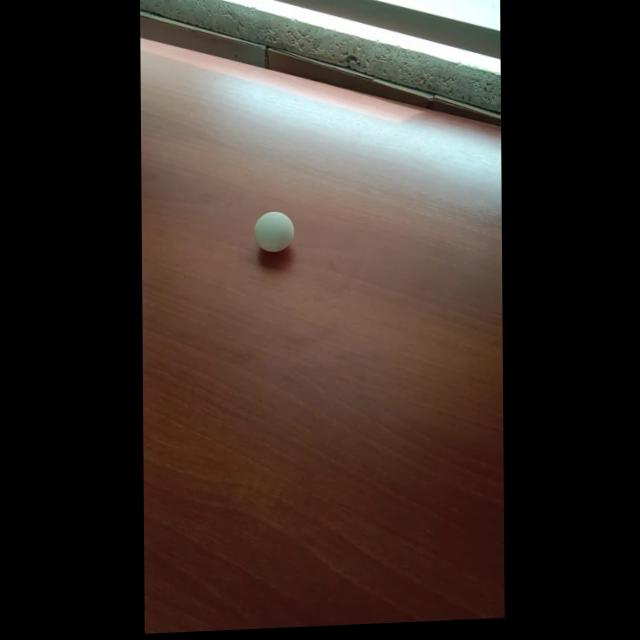white ball: (254, 210, 294, 254)
